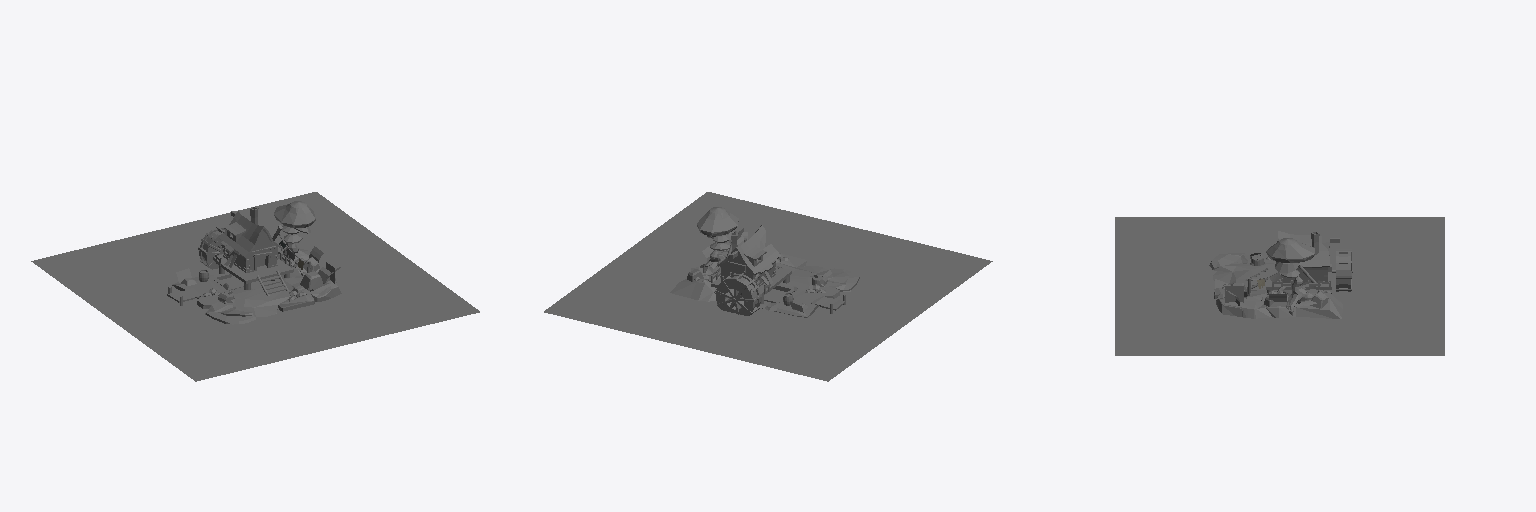
The picture shows the model from 3 angles: view 1: azimuth 30°, elevation 25°; view 2: azimuth 150°, elevation 25°; view 3: azimuth 270°, elevation 25°; orthographic projection.
Parts seen in each view (by area): view 1: m_Water_Untitled.009, m_House_Untitled.008, m_Ground_Untitled.012, m_Tree_Untitled.014, m_Grass_Untitled.006, m_Rock_Untitled.013; view 2: m_Water_Untitled.009, m_House_Untitled.008, m_Ground_Untitled.012, m_Tree_Untitled.014; view 3: m_Water_Untitled.009, m_Ground_Untitled.012, m_House_Untitled.008, m_Tree_Untitled.014, m_Grass_Untitled.006.
Part boxes in pixels (x1,y1,x2,y2): m_Water_Untitled.009: (31, 192, 479, 381); m_House_Untitled.008: (198, 207, 293, 295); m_Ground_Untitled.012: (172, 248, 341, 324); m_Tree_Untitled.014: (274, 201, 315, 260); m_Grass_Untitled.006: (176, 246, 340, 303); m_Rock_Untitled.013: (181, 241, 322, 293); m_Water_Untitled.009: (544, 192, 992, 381); m_House_Untitled.008: (711, 225, 791, 315); m_Ground_Untitled.012: (670, 249, 859, 317); m_Tree_Untitled.014: (694, 207, 738, 280); m_Water_Untitled.009: (1115, 217, 1444, 355); m_Ground_Untitled.012: (1209, 252, 1342, 318); m_House_Untitled.008: (1245, 231, 1352, 292); m_Tree_Untitled.014: (1266, 238, 1328, 315); m_Grass_Untitled.006: (1214, 253, 1316, 306).
Bounding box in the file's own units: 4 × 1.06 × 4.
Materials: 23 (1 with a texture image).